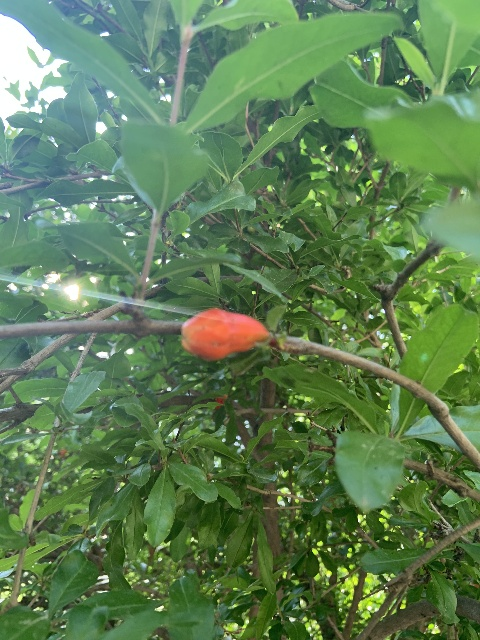bud: (180, 308, 269, 361)
